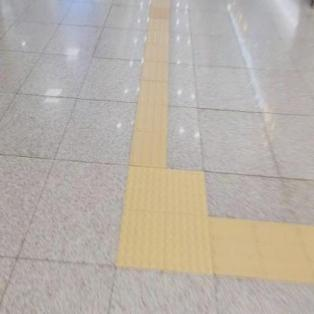Podoctatil: (100, 142, 222, 297), (211, 217, 314, 287), (129, 0, 171, 162)
